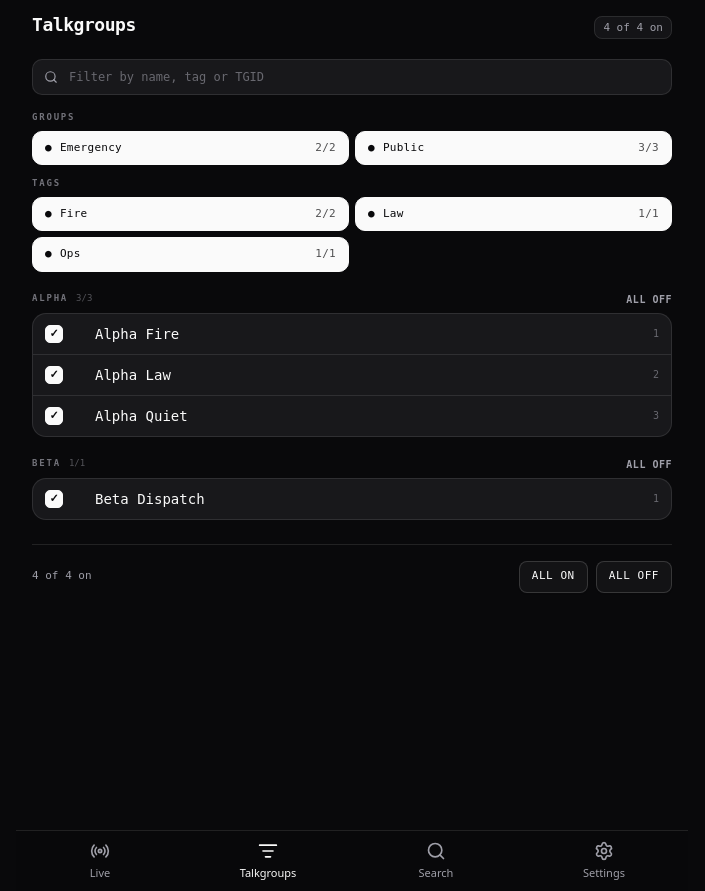
Test: TalkgroupsScreen (#12, spec US 19–22) › toggles a Group category across Systems
This screenshot has width=705, height=891.
Click the button "● Public 3/3": (404, 147) top-left (355, 130), bottom-right (672, 165)
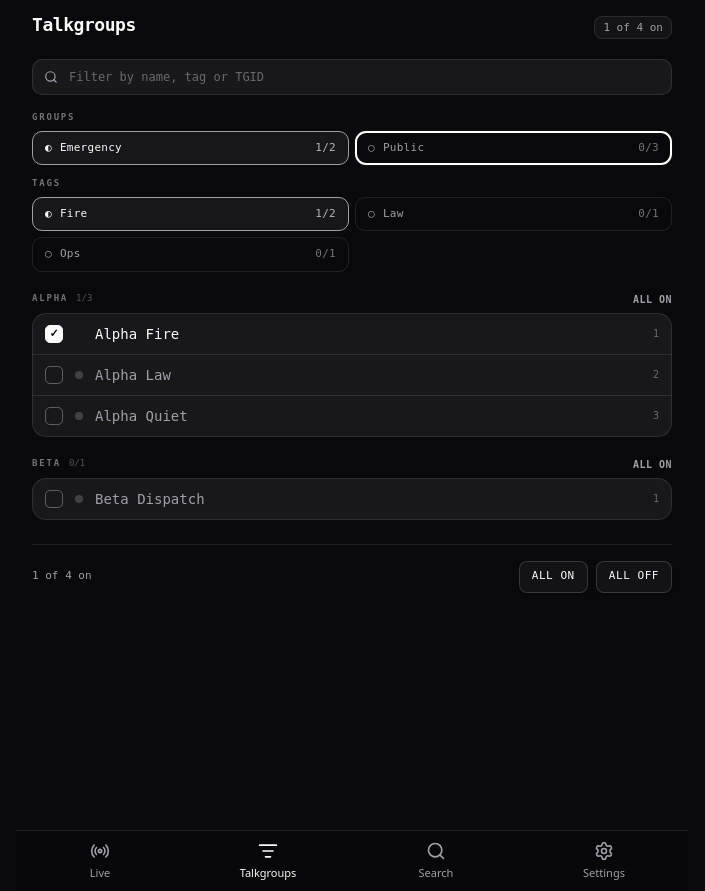
Check: the text with test id "selection-summary" reads "1 of 4 on", box top-left (594, 16), bottom-right (672, 39)
